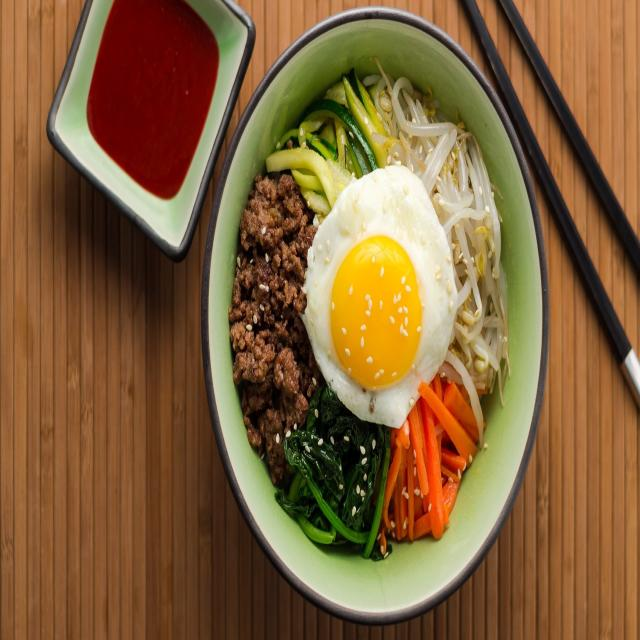Kaow-Yum: (202, 7, 547, 640)
Protein: (228, 169, 456, 440)
Vegetable: (274, 382, 495, 560), (425, 142, 506, 374), (272, 65, 392, 166)
